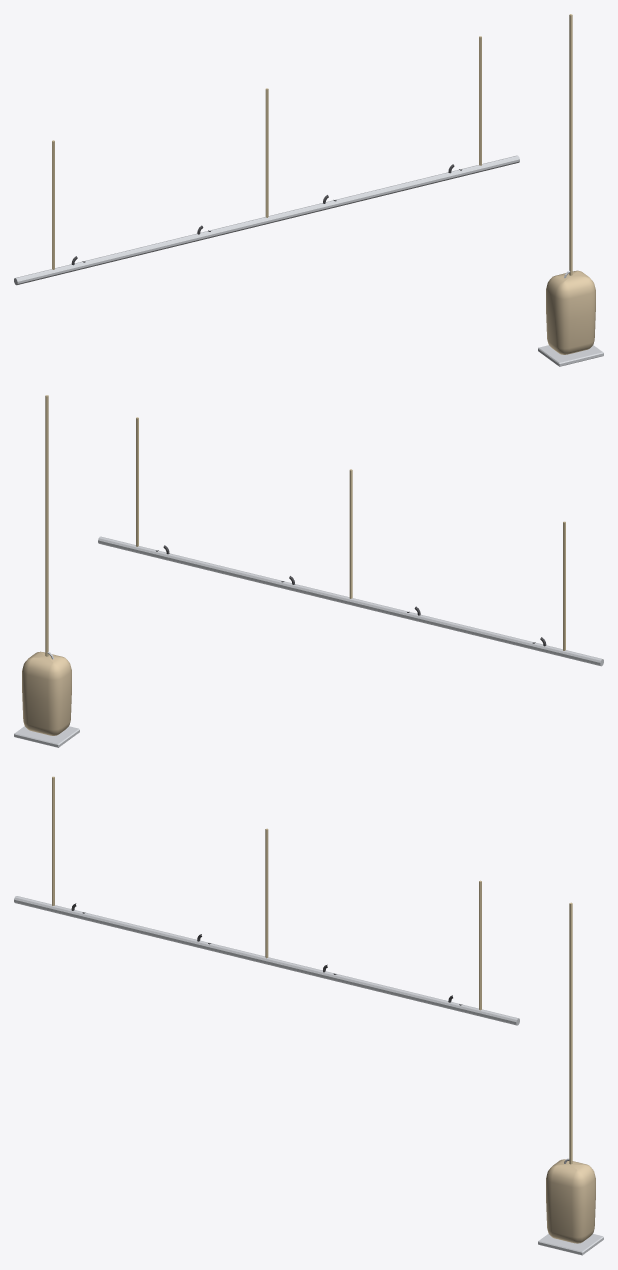
The model's file is theatre-stage-and-backstage-fly-bar-with-lines-and-san-2b2d681b__35882.glb.
The picture shows the model from 3 angles, top to bottom: view 1: azimuth 30°, elevation 25°; view 2: azimuth 150°, elevation 25°; view 3: azimuth 330°, elevation 25°; orthographic projection.
Visible parts, largest first — view 1: fly-bar-with-lines-and-sandbag, bar; view 2: fly-bar-with-lines-and-sandbag, bar; view 3: fly-bar-with-lines-and-sandbag, bar.
Part boxes in pixels (bbox=[...]): fly-bar-with-lines-and-sandbag: bbox=[52, 14, 603, 366]; bar: bbox=[14, 155, 519, 285]; fly-bar-with-lines-and-sandbag: bbox=[14, 395, 565, 747]; bar: bbox=[98, 536, 603, 666]; fly-bar-with-lines-and-sandbag: bbox=[52, 776, 603, 1255]; bar: bbox=[14, 896, 519, 1025].
Size of the model in its own units: 4.6 by 2.58 by 0.3.
